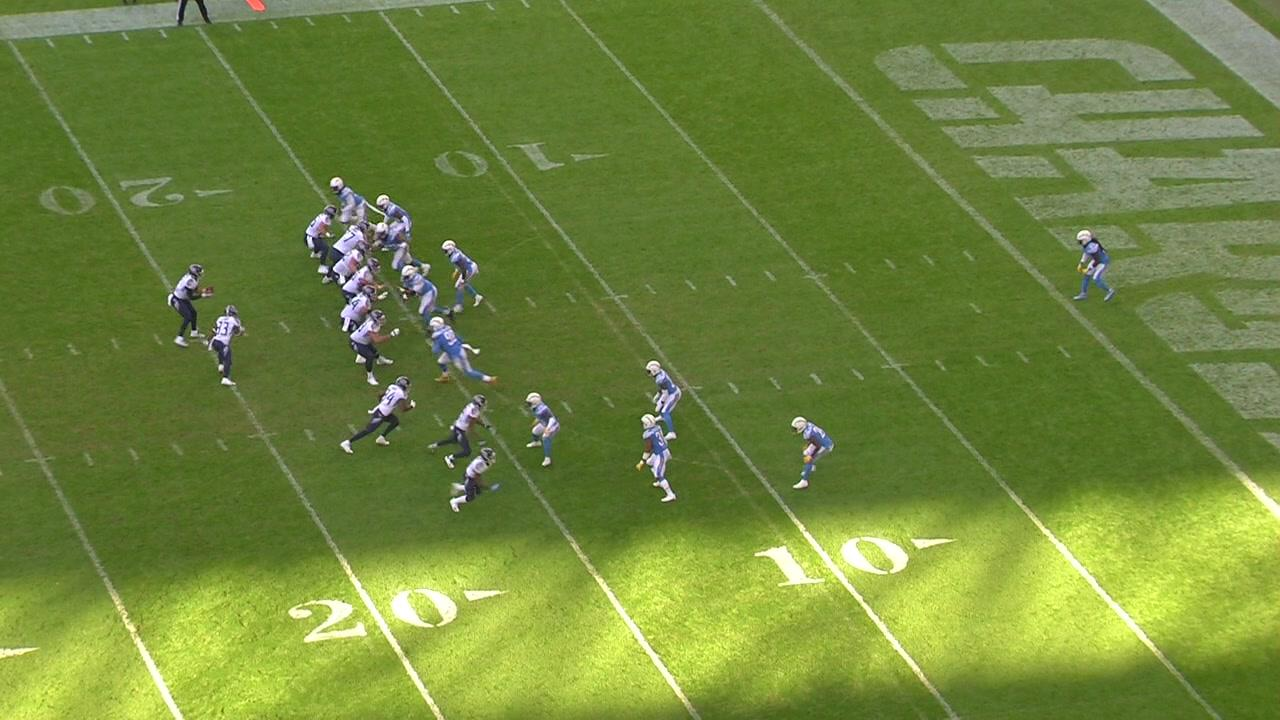player: (333, 375, 420, 455), (425, 315, 503, 389), (425, 393, 499, 470), (166, 261, 216, 350), (631, 411, 677, 505), (346, 310, 400, 388), (396, 265, 456, 334), (445, 446, 502, 518), (339, 284, 388, 365), (641, 356, 685, 444), (321, 218, 375, 288), (206, 301, 248, 389), (371, 220, 432, 280), (1072, 226, 1118, 305), (789, 414, 835, 491), (440, 238, 485, 314), (521, 392, 563, 469), (300, 204, 339, 276), (331, 240, 375, 291), (327, 174, 370, 226), (342, 256, 388, 304), (375, 192, 413, 244)
